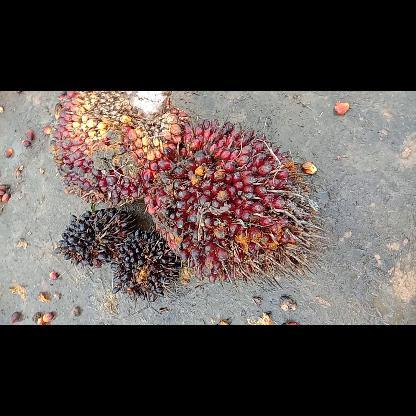TBS abnormal: (54, 204, 140, 270), (108, 226, 184, 300)
TBS masak: (142, 117, 326, 291), (46, 92, 192, 206)
